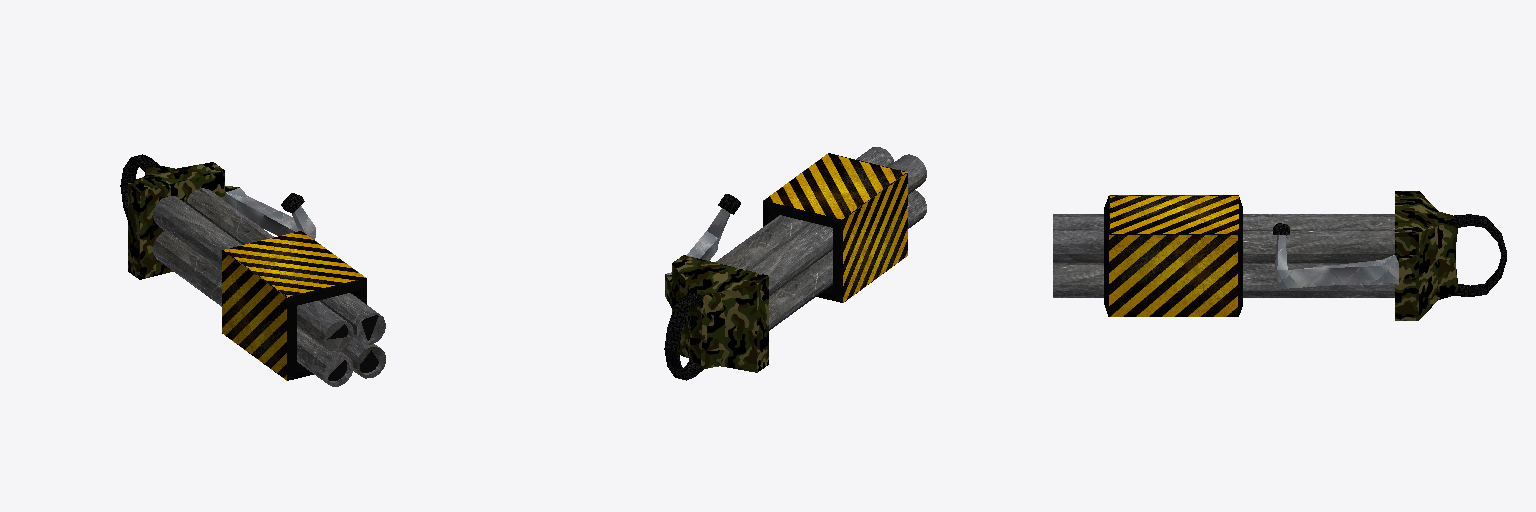
3 renders of one model, left to right at view 1: azimuth 30°, elevation 25°; view 2: azimuth 150°, elevation 25°; view 3: azimuth 270°, elevation 25°, orthographic.
Parts seen in each view (by area): view 1: Cylinder.001, Cylinder.000_Cylinder.004, Cube; view 2: Cylinder.000_Cylinder.004, Cube, Cylinder.001; view 3: Cylinder.000_Cylinder.004, Cylinder.001, Cube.
Part boxes in pixels (x1,y1,x2,y2): Cylinder.001: (153, 188, 385, 386); Cylinder.000_Cylinder.004: (222, 231, 366, 380); Cube: (120, 154, 315, 279); Cylinder.000_Cylinder.004: (763, 153, 907, 302); Cube: (664, 194, 768, 380); Cylinder.001: (715, 147, 926, 330); Cylinder.000_Cylinder.004: (1104, 195, 1242, 316); Cylinder.001: (1053, 214, 1398, 297); Cube: (1273, 191, 1506, 320).
Bounding box in the file's own units: 1.57 × 1.32 × 5.25.
3 materials, 1 textured.